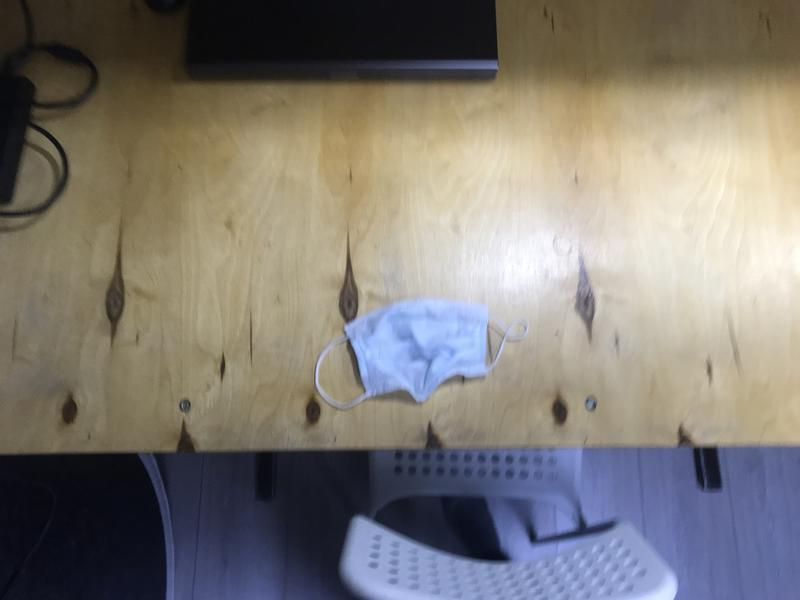medical_mask: (314, 298, 529, 407)
